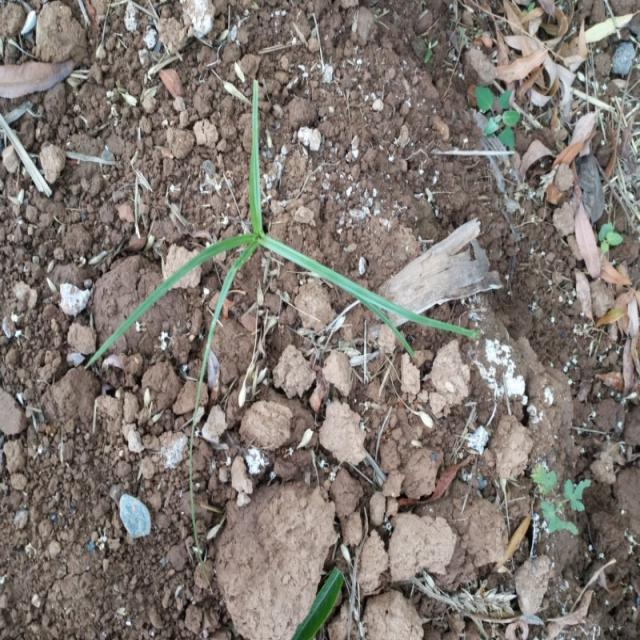sedge: (123, 110, 446, 381)
